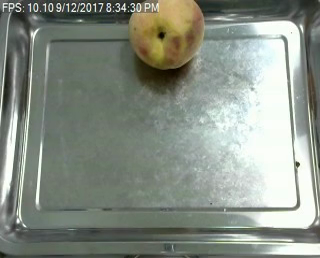Peach: (127, 0, 206, 70)
